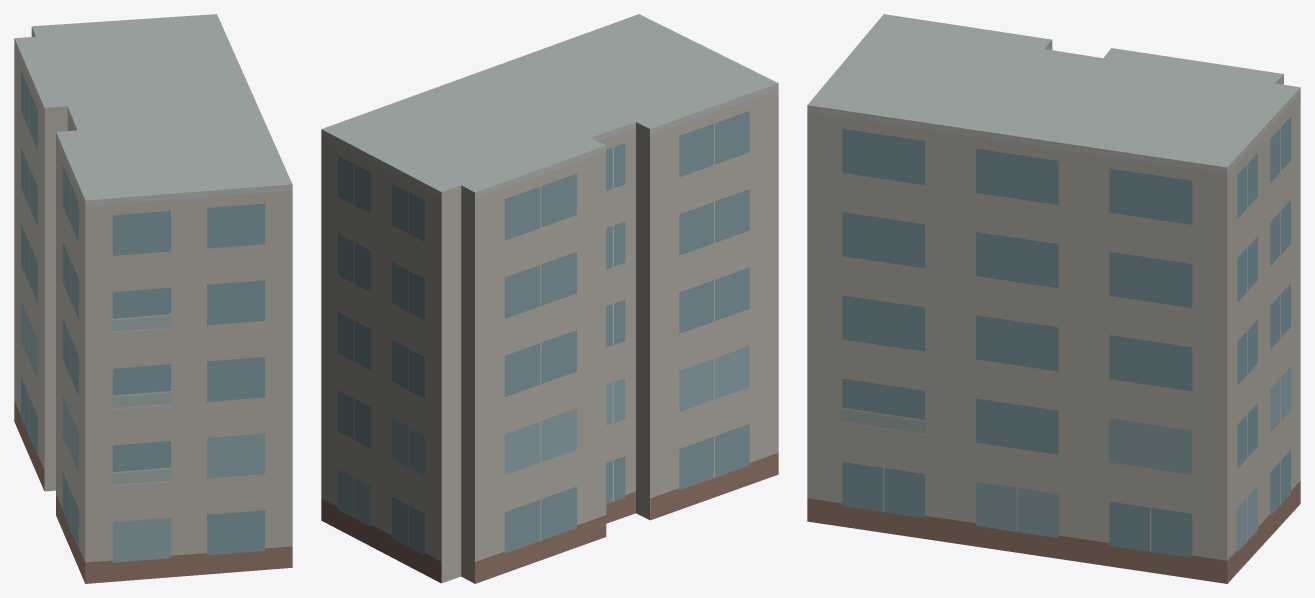
File: survey-upis-32962959.glb
3 renders of one model, left to right at view 1: azimuth 30°, elevation 25°; view 2: azimuth 150°, elevation 25°; view 3: azimuth 270°, elevation 25°, orthographic. The views are drawn at different scales.
Visible parts, largest first — view 1: survey-upis-32962959.tmp; view 2: survey-upis-32962959.tmp; view 3: survey-upis-32962959.tmp.
Part boxes in pixels (bbox=[...]): survey-upis-32962959.tmp: bbox=[14, 14, 292, 583]; survey-upis-32962959.tmp: bbox=[321, 14, 778, 583]; survey-upis-32962959.tmp: bbox=[807, 14, 1300, 583].
Size of the model in its own units: 12.43 by 15.7 by 16.87.
